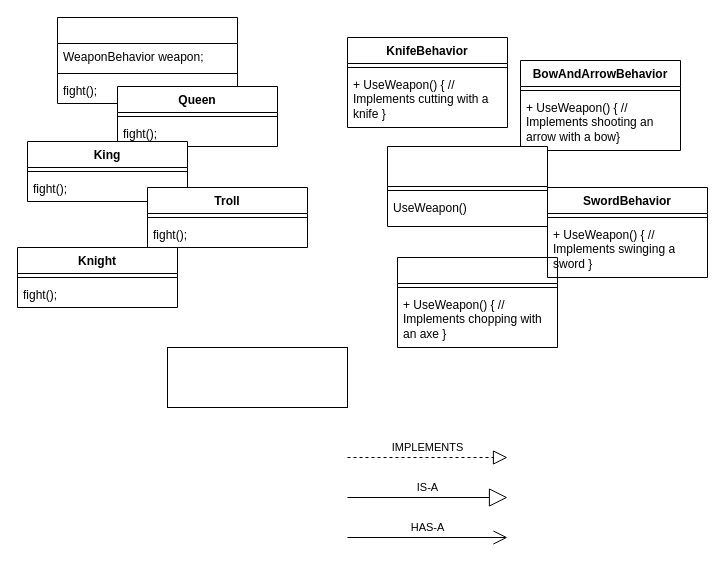
This 725x569 diagram has some shape labels left out. The box of each missing label's shape, as (x1, y1, x2, y2) in pixels:
<<interface>> WeaponBehavior: (386, 146, 548, 226)
AxeBehavior: (396, 256, 558, 348)
Character: (56, 16, 238, 104)
SetWeapon(WeaponBehavior w) { this.weapon = w; }: (166, 346, 348, 408)
